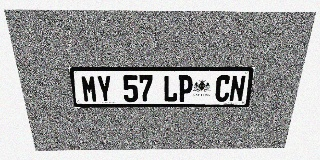5: (123, 75, 138, 102)
7: (138, 75, 153, 102)
C: (214, 75, 231, 102)
L: (163, 75, 178, 102)
M: (80, 75, 98, 102)
N: (229, 75, 246, 102)
P: (178, 75, 193, 102)
Y: (96, 75, 113, 102)
